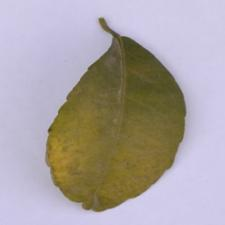Greening: (45, 45, 186, 183)
